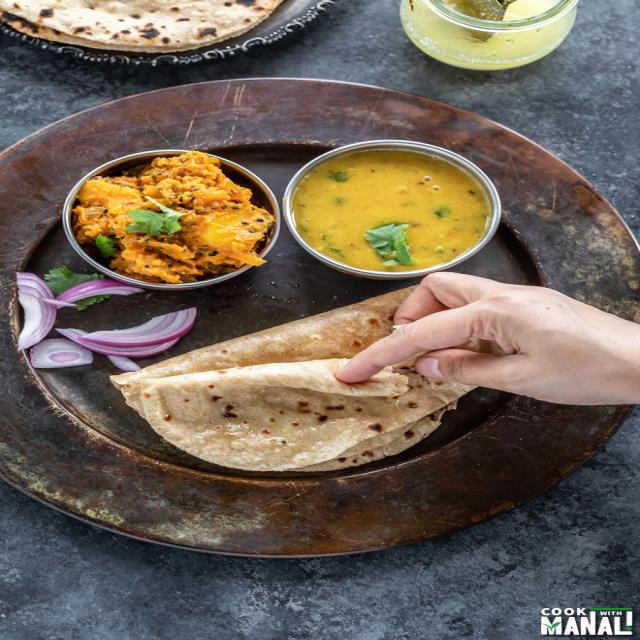ROTI: (107, 292, 465, 470)
